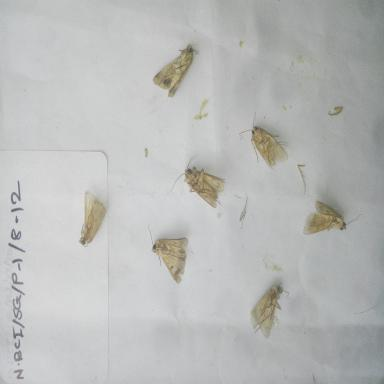abw: (234, 108, 292, 174), (167, 147, 227, 210), (245, 276, 293, 343), (144, 221, 194, 284), (151, 37, 198, 104), (299, 194, 363, 240), (74, 185, 110, 251)
